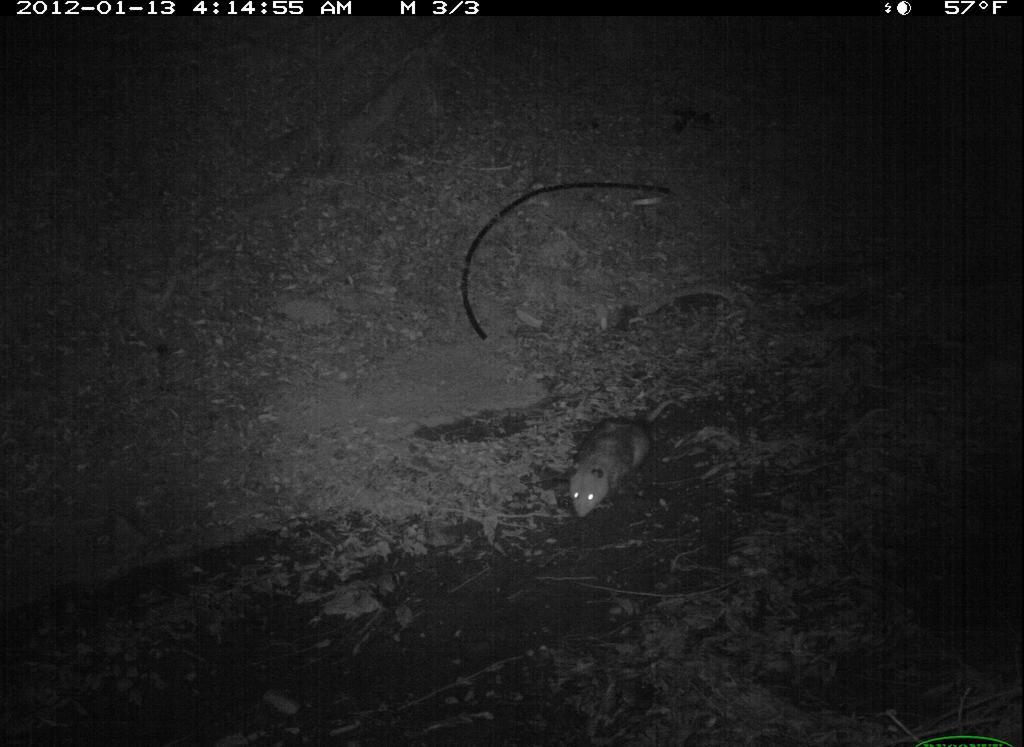opossum: (569, 397, 662, 523)
